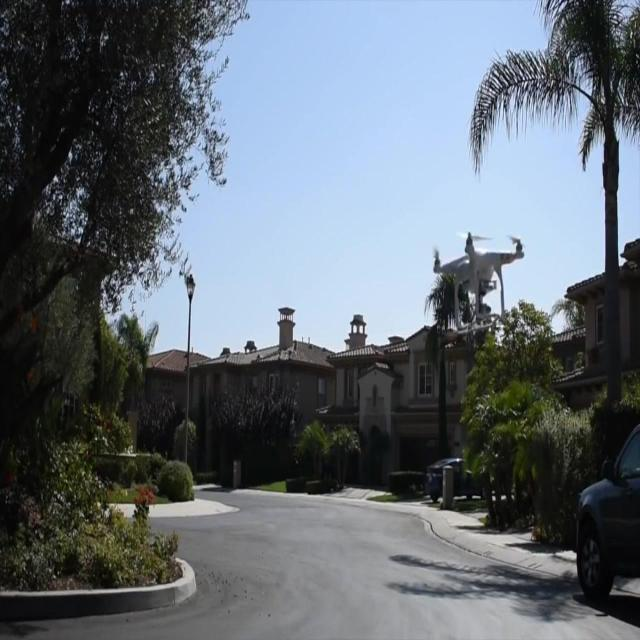drone: (428, 228, 526, 332)
